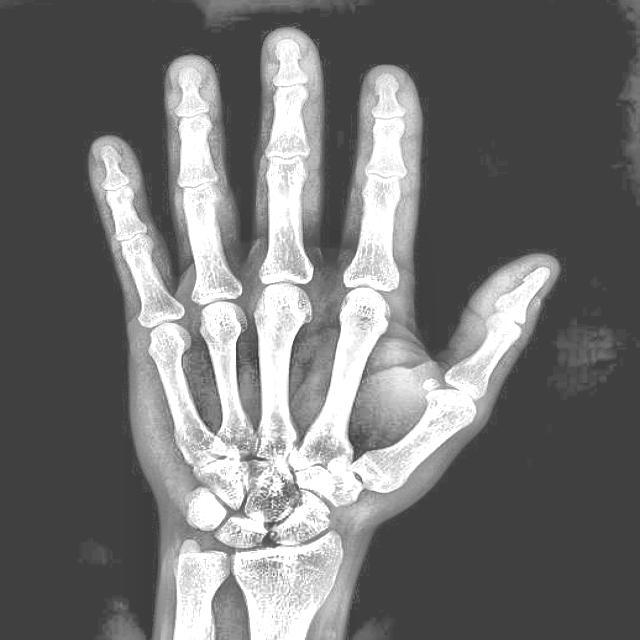fracture: (494, 322, 516, 339)
